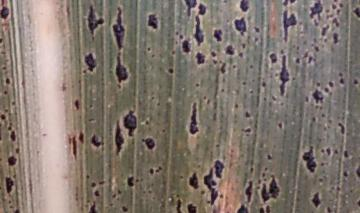tarspot: (109, 5, 130, 52), (83, 3, 106, 40), (201, 168, 218, 209), (258, 175, 281, 203), (113, 51, 130, 88), (300, 144, 318, 176), (186, 99, 201, 137), (278, 53, 290, 99), (281, 8, 297, 41), (190, 15, 206, 48), (121, 109, 138, 140), (112, 119, 124, 154), (82, 50, 97, 77), (142, 12, 163, 31), (231, 15, 249, 37), (307, 1, 324, 22), (213, 155, 225, 183), (138, 136, 158, 152), (243, 177, 255, 203), (186, 171, 200, 191), (89, 133, 105, 150), (2, 175, 17, 193), (308, 190, 323, 208), (179, 35, 192, 55), (311, 86, 324, 104), (211, 25, 224, 43), (232, 200, 250, 213), (182, 1, 196, 17), (193, 50, 206, 66), (71, 95, 83, 112), (224, 41, 236, 58), (86, 199, 100, 213), (124, 173, 136, 189), (335, 120, 347, 136), (77, 129, 87, 148), (185, 200, 199, 213), (250, 23, 264, 36), (196, 2, 208, 17), (1, 4, 11, 22), (174, 197, 185, 213), (5, 155, 18, 168), (263, 150, 276, 163), (331, 29, 341, 45), (242, 107, 254, 120), (267, 51, 278, 65), (7, 129, 18, 143), (240, 125, 254, 136), (324, 143, 333, 160), (239, 1, 251, 13), (318, 24, 329, 37), (3, 73, 13, 87), (258, 78, 269, 90), (311, 43, 323, 54), (350, 5, 360, 18), (163, 66, 176, 76), (350, 75, 360, 88), (292, 55, 303, 66), (275, 119, 285, 131), (264, 202, 274, 213), (208, 59, 220, 68), (1, 110, 8, 125), (341, 168, 349, 181), (327, 77, 335, 90), (119, 204, 130, 213), (208, 50, 219, 59), (341, 147, 349, 159), (13, 145, 22, 155), (337, 76, 346, 86), (305, 55, 314, 65), (147, 165, 154, 177), (92, 189, 101, 198), (89, 179, 96, 190), (256, 204, 264, 213)
